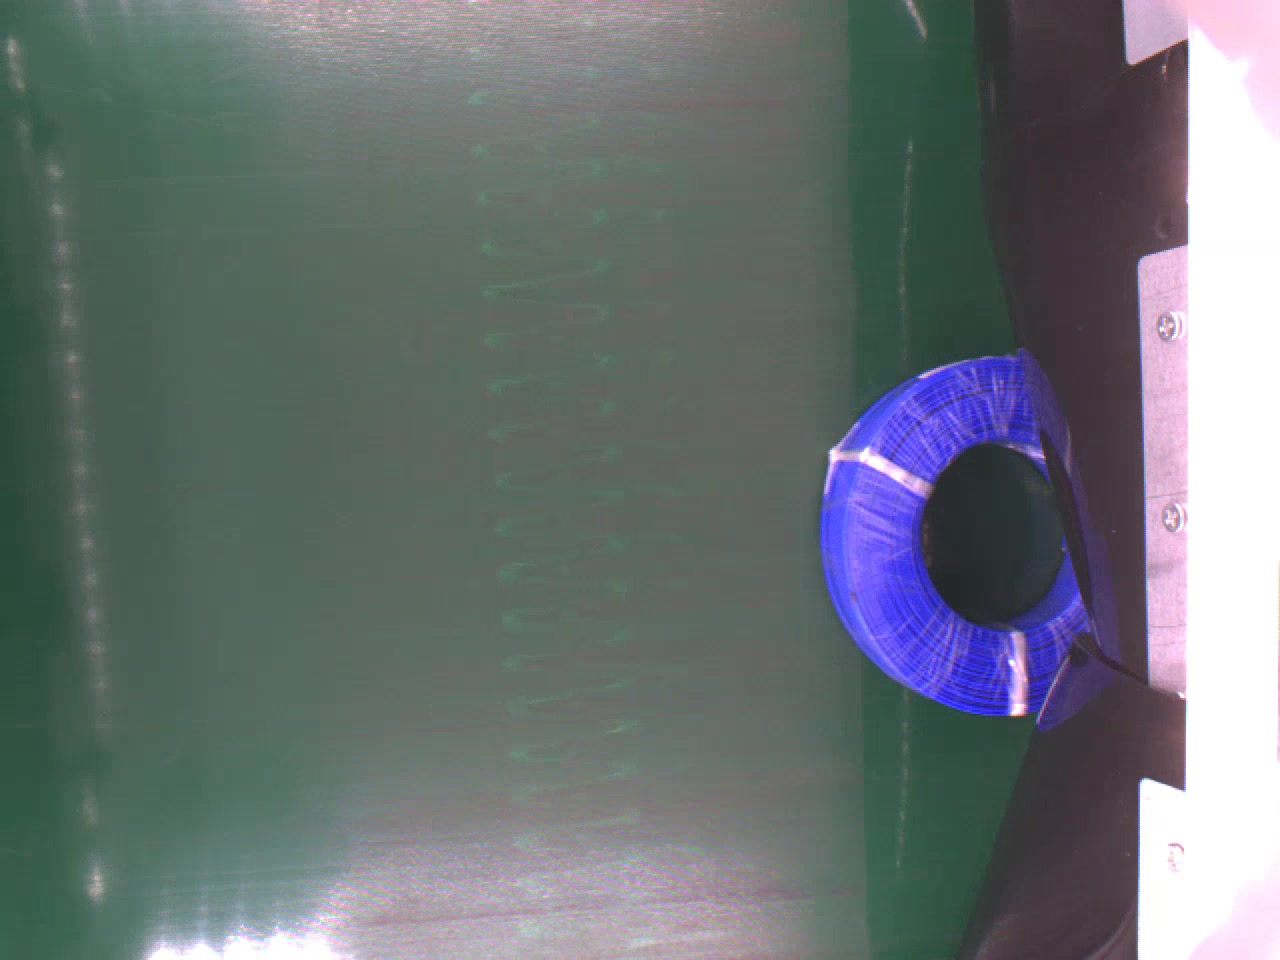blue: (819, 350, 1081, 725)
